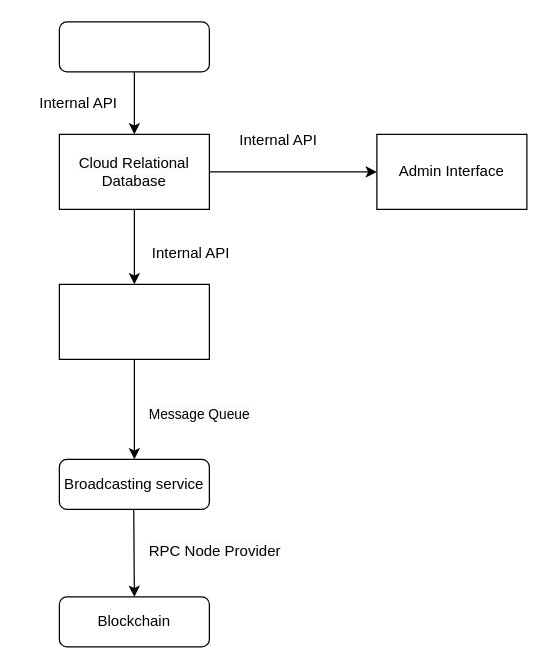
Some shapes in this 549 by 669 pixel diagram are drawn without their labels. Each missing label, with the centre of its shape:
"Signing service" belongs at point (133, 321).
"User" belongs at point (133, 46).
